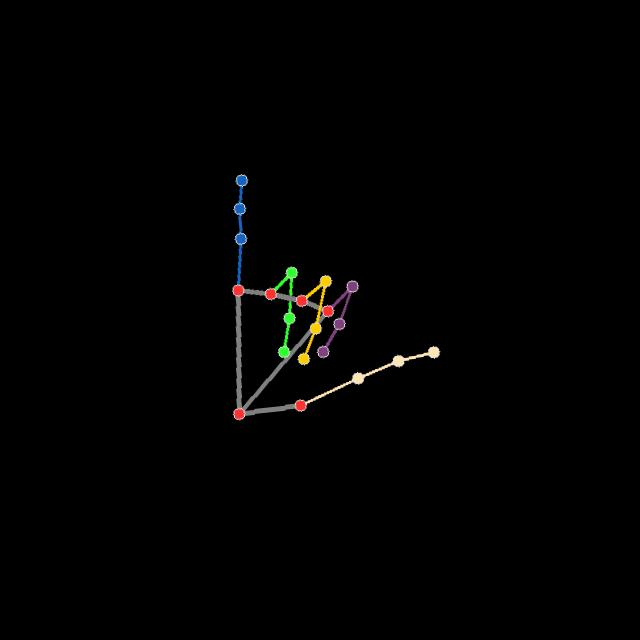skr: (205, 168, 444, 422)
